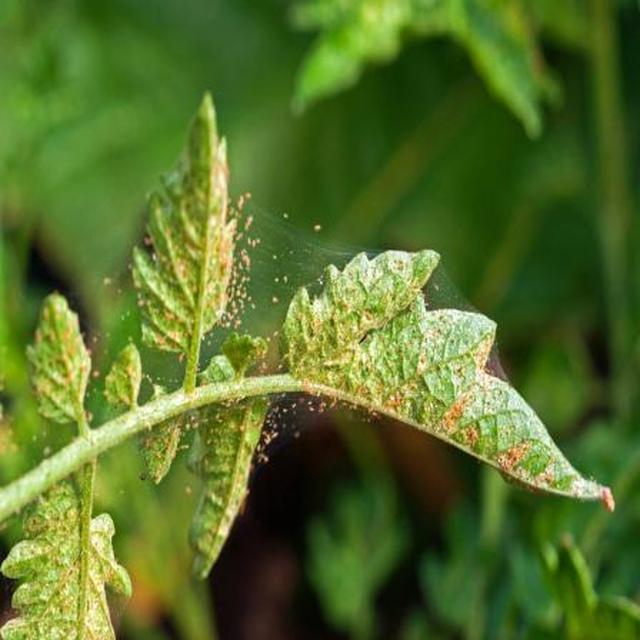Spider Mites Leaf: (85, 193, 639, 640)
